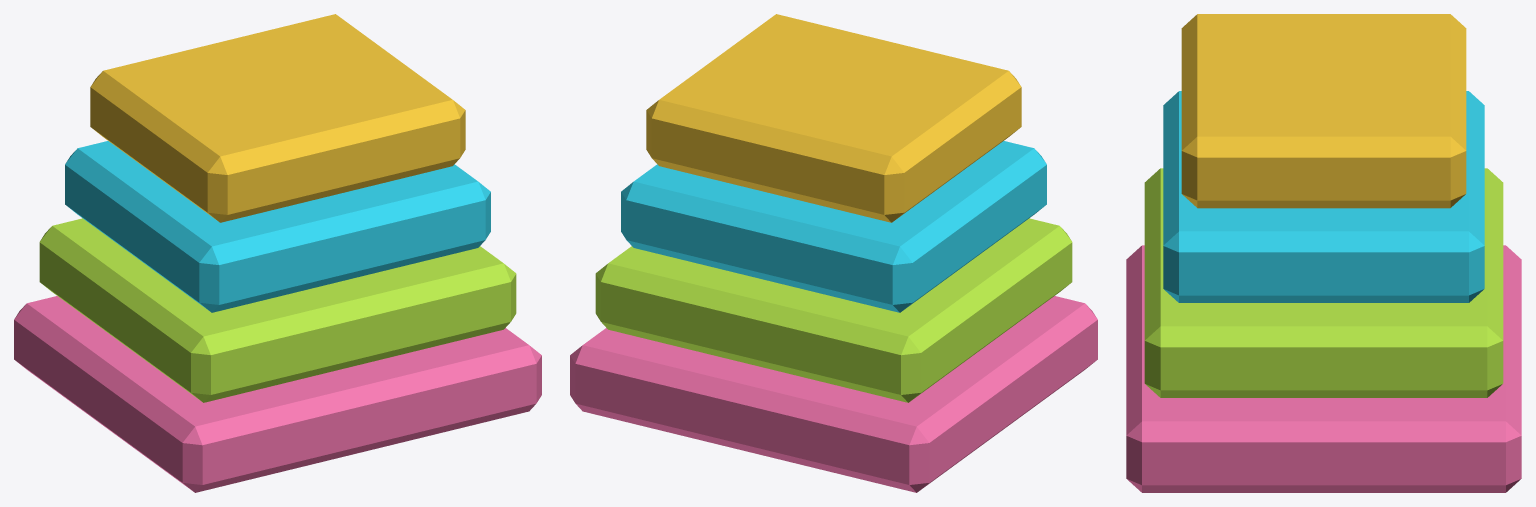
File: layered_jelly.glb
The picture shows the model from 3 angles, left to right: view 1: azimuth 30°, elevation 25°; view 2: azimuth 150°, elevation 25°; view 3: azimuth 270°, elevation 25°; orthographic projection. The views are drawn at different scales.
Parts seen in each view (by area): view 1: layered_jelly; view 2: layered_jelly; view 3: layered_jelly.
Boxes of the visible parts, x1=… form: layered_jelly: x1=14, y1=14, x2=541, y2=492; layered_jelly: x1=570, y1=14, x2=1097, y2=492; layered_jelly: x1=1126, y1=14, x2=1521, y2=492.
Size of the model in its own units: 1.7 by 1.38 by 1.5.
